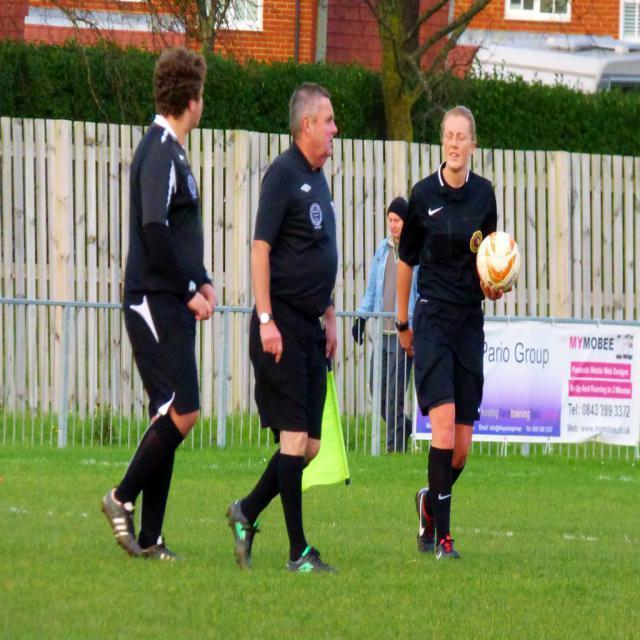ball: (474, 228, 522, 290)
